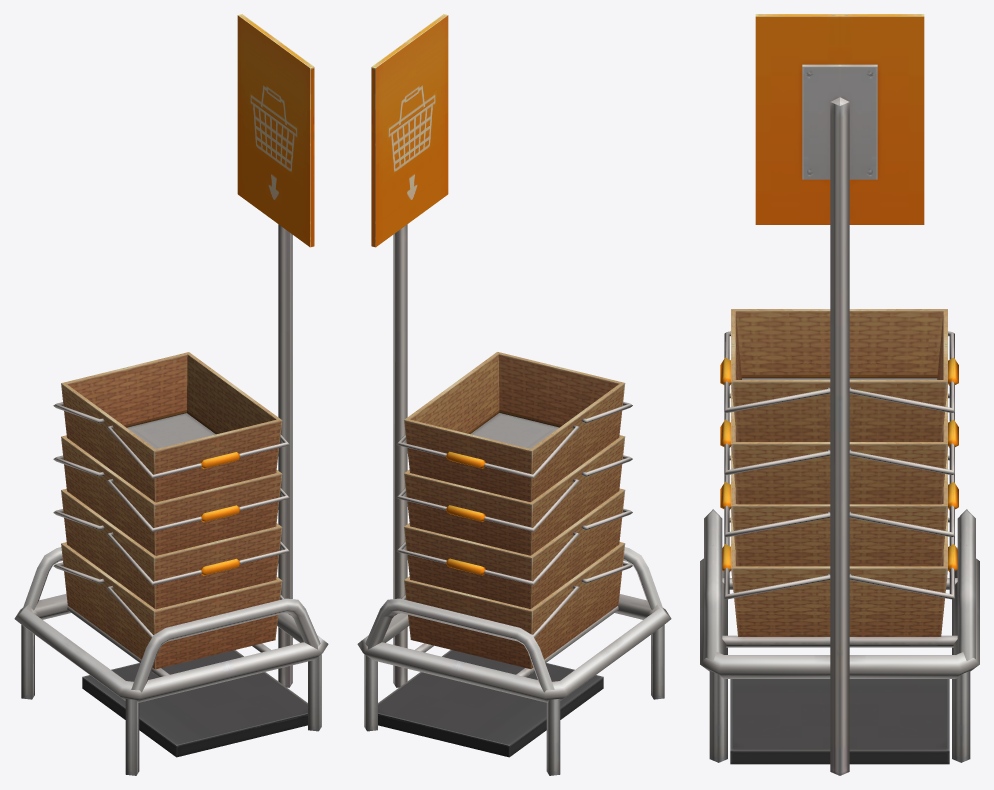
The model's file is my_shoppingmall_01_basketstand_01.glb.
3 renders of one model, left to right at view 1: azimuth 30°, elevation 25°; view 2: azimuth 150°, elevation 25°; view 3: azimuth 270°, elevation 25°, orthographic. The views are drawn at different scales.
Parts seen in each view (by area): view 1: my_shoppingmall_01_basketstand_01; view 2: my_shoppingmall_01_basketstand_01; view 3: my_shoppingmall_01_basketstand_01.
Part boxes in pixels (bbox=[...]): my_shoppingmall_01_basketstand_01: bbox=[14, 14, 328, 775]; my_shoppingmall_01_basketstand_01: bbox=[357, 14, 671, 775]; my_shoppingmall_01_basketstand_01: bbox=[700, 14, 979, 775].
Size of the model in its own units: 0.00415 by 0.0113 by 0.00383.
Materials: 1 (1 with a texture image).
